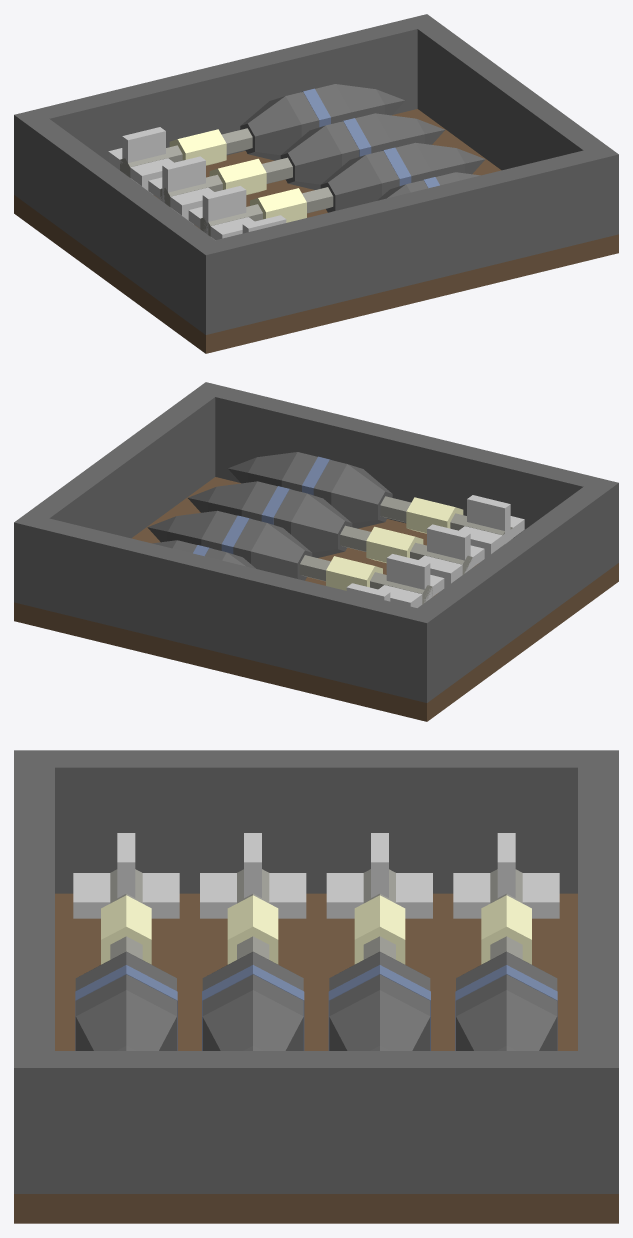
Rendered from ce_ammo_mortar_antigrain_c.obj.
The picture shows the model from 3 angles, top to bottom: view 1: azimuth 30°, elevation 25°; view 2: azimuth 150°, elevation 25°; view 3: azimuth 270°, elevation 25°; orthographic projection. The views are drawn at different scales.
Visible parts, largest first — view 1: ce_ammo_mortar_antigrain_c_3, ce_ammo_mortar_antigrain_c_1, ce_ammo_mortar_antigrain_c_4, ce_ammo_mortar_antigrain_c_2, ce_ammo_mortar_antigrain_c_0, ce_ammo_mortar_antigrain_c_37, ce_ammo_mortar_antigrain_c_27, ce_ammo_mortar_antigrain_c_17, ce_ammo_mortar_antigrain_c_36, ce_ammo_mortar_antigrain_c_24, ce_ammo_mortar_antigrain_c_26, ce_ammo_mortar_antigrain_c_34 (+20 smaller); view 2: ce_ammo_mortar_antigrain_c_4, ce_ammo_mortar_antigrain_c_1, ce_ammo_mortar_antigrain_c_3, ce_ammo_mortar_antigrain_c_2, ce_ammo_mortar_antigrain_c_0, ce_ammo_mortar_antigrain_c_7, ce_ammo_mortar_antigrain_c_17, ce_ammo_mortar_antigrain_c_27, ce_ammo_mortar_antigrain_c_14, ce_ammo_mortar_antigrain_c_6, ce_ammo_mortar_antigrain_c_16, ce_ammo_mortar_antigrain_c_26 (+20 smaller); view 3: ce_ammo_mortar_antigrain_c_2, ce_ammo_mortar_antigrain_c_1, ce_ammo_mortar_antigrain_c_0, ce_ammo_mortar_antigrain_c_3, ce_ammo_mortar_antigrain_c_4, ce_ammo_mortar_antigrain_c_21, ce_ammo_mortar_antigrain_c_31, ce_ammo_mortar_antigrain_c_11, ce_ammo_mortar_antigrain_c_41, ce_ammo_mortar_antigrain_c_13, ce_ammo_mortar_antigrain_c_43, ce_ammo_mortar_antigrain_c_23 (+25 smaller).
Boxes of the visible parts, box(x1,y1,x2,y2) form: ce_ammo_mortar_antigrain_c_3: box(216, 150, 596, 329); ce_ammo_mortar_antigrain_c_1: box(14, 109, 228, 334); ce_ammo_mortar_antigrain_c_4: box(37, 19, 417, 169); ce_ammo_mortar_antigrain_c_2: box(405, 14, 618, 239); ce_ammo_mortar_antigrain_c_0: box(14, 109, 618, 353); ce_ammo_mortar_antigrain_c_37: box(240, 96, 301, 160); ce_ammo_mortar_antigrain_c_27: box(280, 125, 341, 189); ce_ammo_mortar_antigrain_c_17: box(320, 155, 381, 212); ce_ammo_mortar_antigrain_c_36: box(169, 129, 226, 165); ce_ammo_mortar_antigrain_c_24: box(202, 186, 246, 240); ce_ammo_mortar_antigrain_c_26: box(209, 158, 266, 194); ce_ammo_mortar_antigrain_c_34: box(162, 156, 205, 224); ce_ammo_mortar_antigrain_c_4: box(36, 518, 416, 697); ce_ammo_mortar_antigrain_c_1: box(404, 477, 618, 702); ce_ammo_mortar_antigrain_c_3: box(215, 387, 595, 537); ce_ammo_mortar_antigrain_c_2: box(14, 382, 227, 607); ce_ammo_mortar_antigrain_c_0: box(14, 477, 618, 721); ce_ammo_mortar_antigrain_c_7: box(331, 464, 392, 528); ce_ammo_mortar_antigrain_c_17: box(291, 493, 352, 557); ce_ammo_mortar_antigrain_c_27: box(251, 523, 312, 580); ce_ammo_mortar_antigrain_c_14: box(467, 495, 510, 562); ce_ammo_mortar_antigrain_c_6: box(406, 497, 463, 533); ce_ammo_mortar_antigrain_c_16: box(366, 526, 423, 562); ce_ammo_mortar_antigrain_c_26: box(326, 556, 382, 590); ce_ammo_mortar_antigrain_c_2: box(14, 1051, 618, 1193); ce_ammo_mortar_antigrain_c_1: box(14, 750, 618, 893); ce_ammo_mortar_antigrain_c_0: box(14, 893, 618, 1223); ce_ammo_mortar_antigrain_c_3: box(14, 767, 54, 1050); ce_ammo_mortar_antigrain_c_4: box(578, 767, 618, 1050); ce_ammo_mortar_antigrain_c_21: box(202, 990, 303, 1050); ce_ammo_mortar_antigrain_c_31: box(329, 990, 430, 1050); ce_ammo_mortar_antigrain_c_11: box(75, 990, 176, 1050); ce_ammo_mortar_antigrain_c_41: box(456, 990, 557, 1050); ce_ammo_mortar_antigrain_c_13: box(73, 873, 179, 918); ce_ammo_mortar_antigrain_c_43: box(453, 873, 559, 918); ce_ammo_mortar_antigrain_c_23: box(200, 873, 306, 918).
Bounding box in the file's own units: 0.92 × 0.21 × 0.74.
